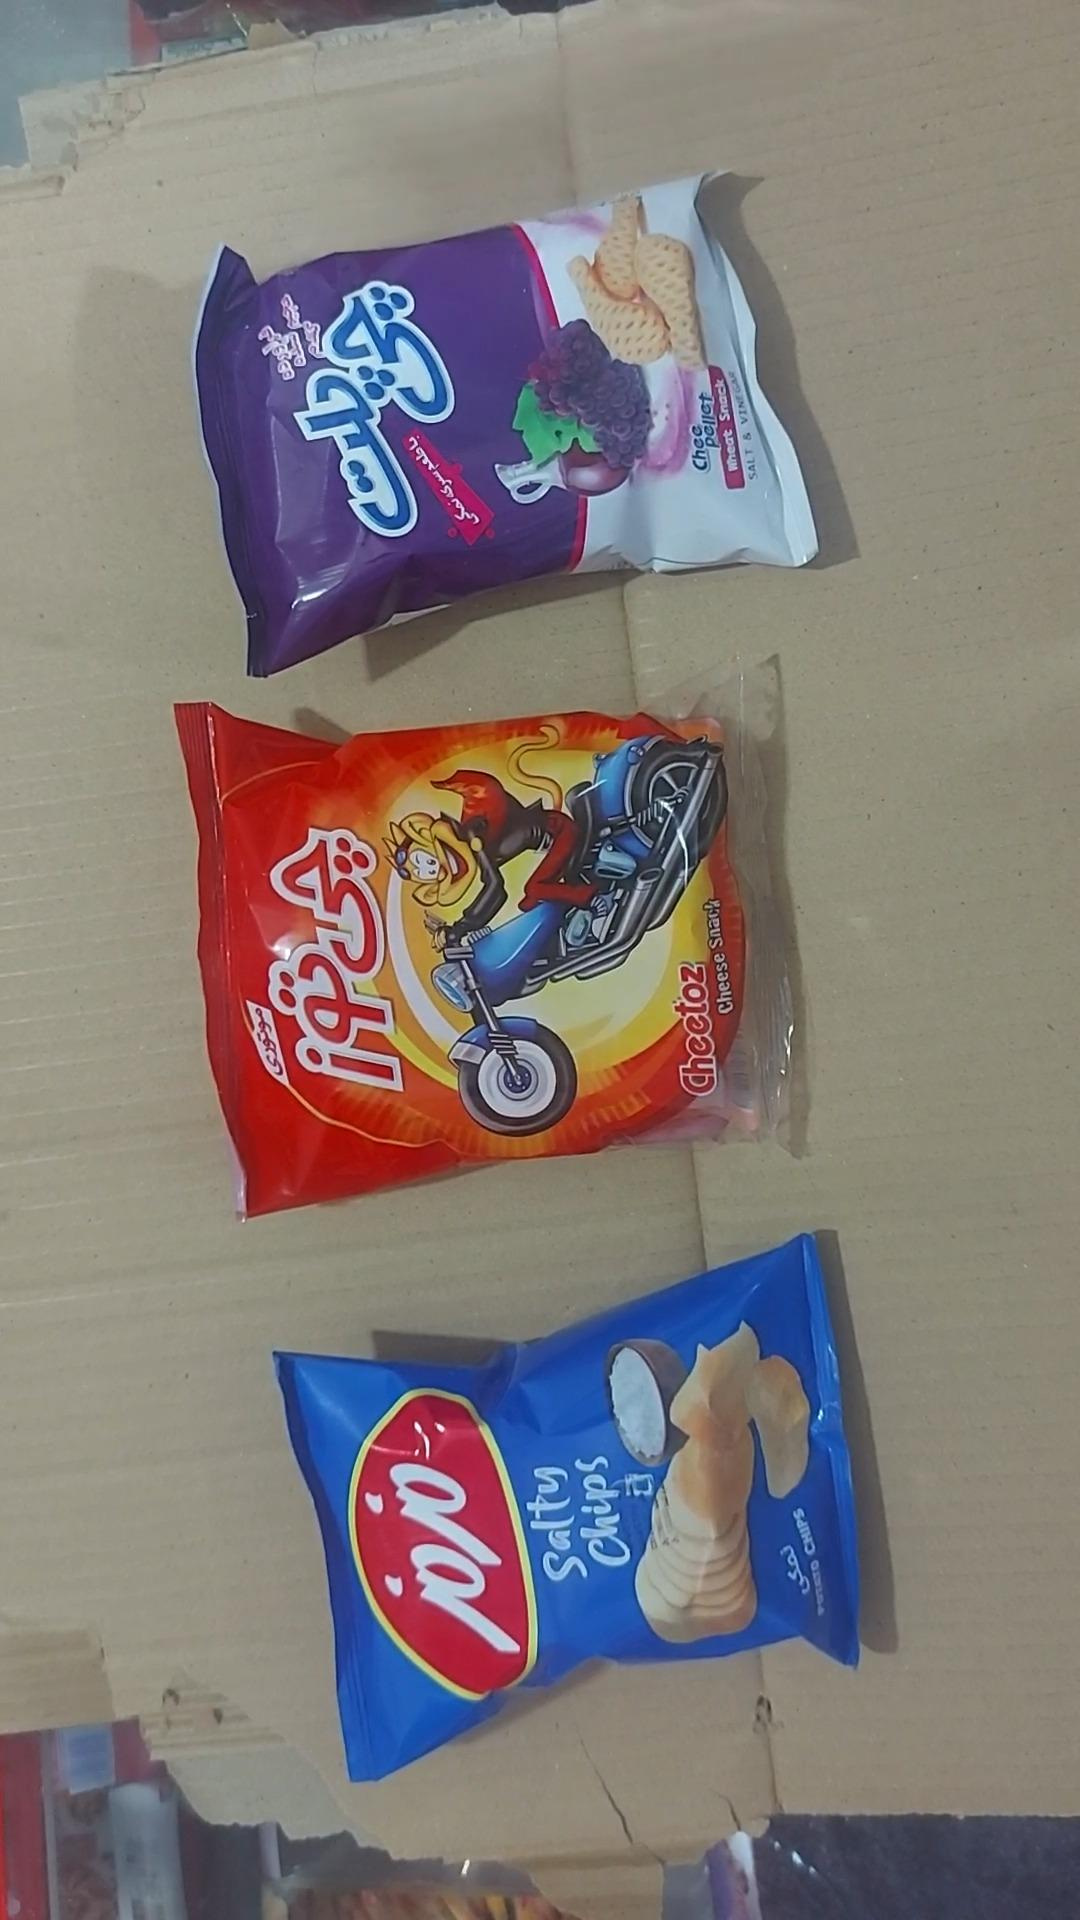Chee pellet vinegar: (194, 174, 820, 680)
Cheetoz snack 30g: (171, 655, 786, 1221)
Maz Maz salty chips: (272, 1237, 861, 1787)
